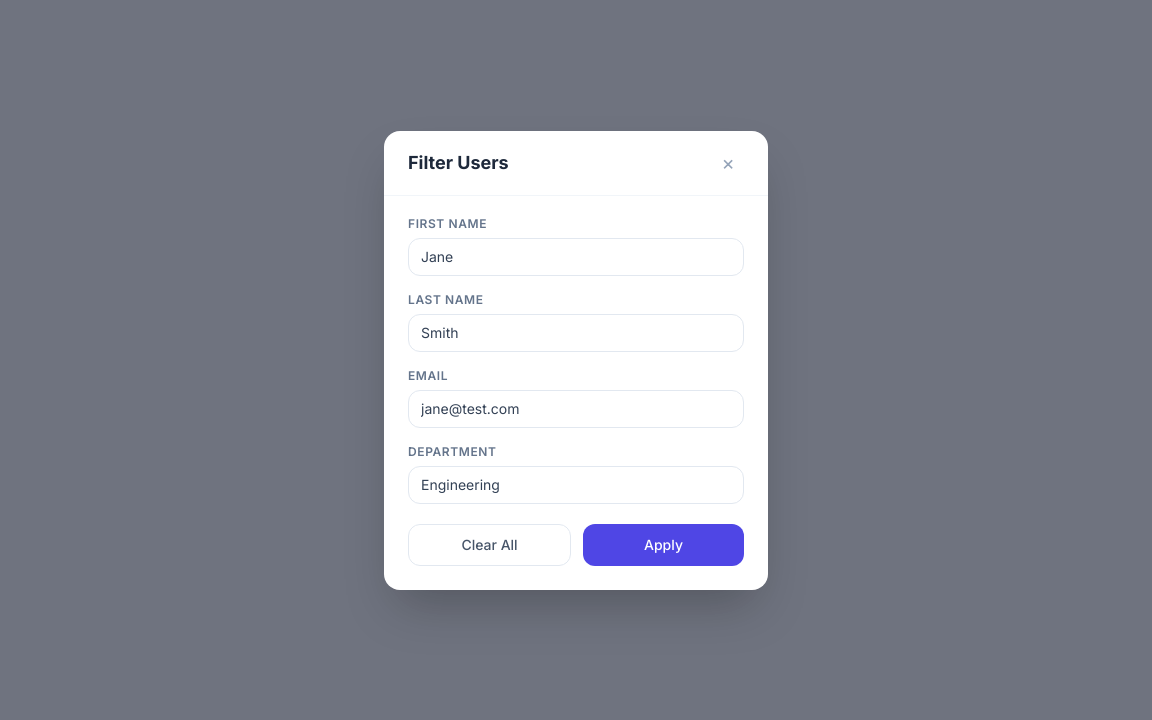
Test: FilterModal › clears all filter inputs when 'Clear All' is clicked
Step 1. Click the button "Clear All" → click(490, 544), box [408, 524, 571, 566]
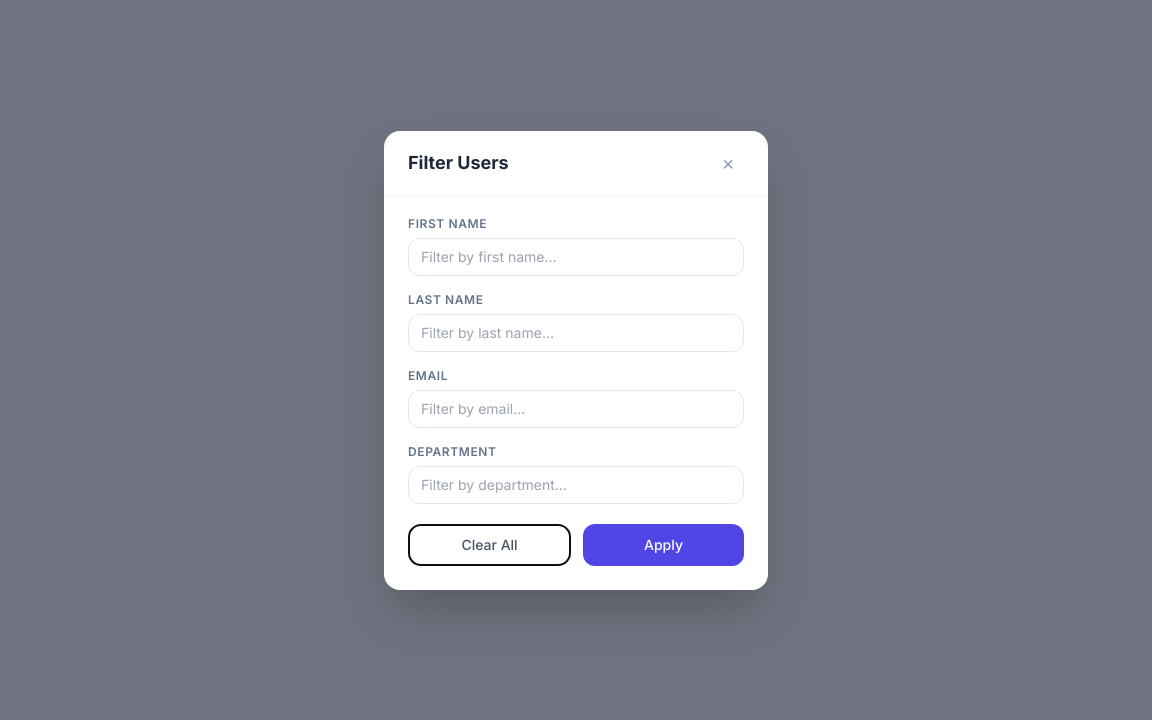
Now the field with placeholder "Filter by first name…" is empty, box [408, 238, 744, 276]
Now the field with placeholder "Filter by last name…" is empty, box [408, 314, 744, 352]
Now the field with placeholder "Filter by email…" is empty, box [408, 390, 744, 428]
